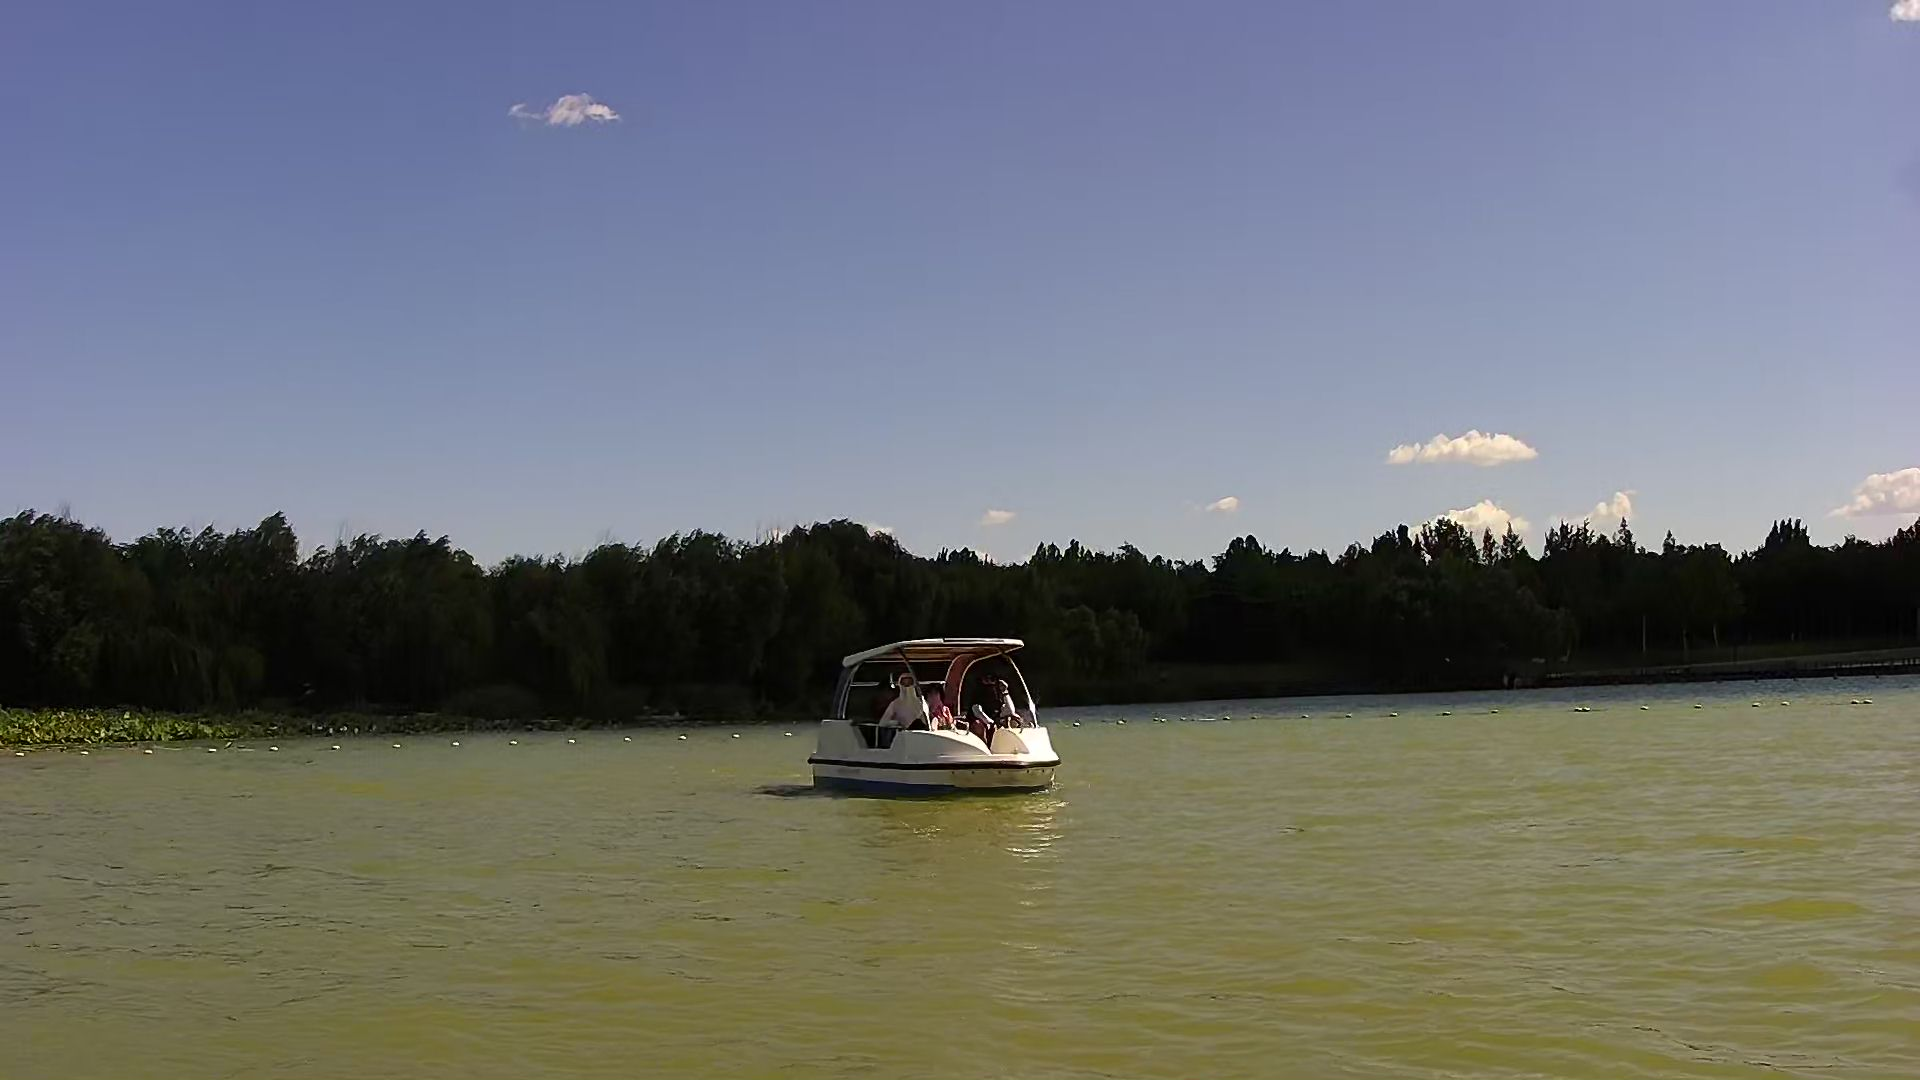boat: (794, 627, 1069, 806)
person: (877, 665, 931, 741), (964, 677, 1023, 731)
